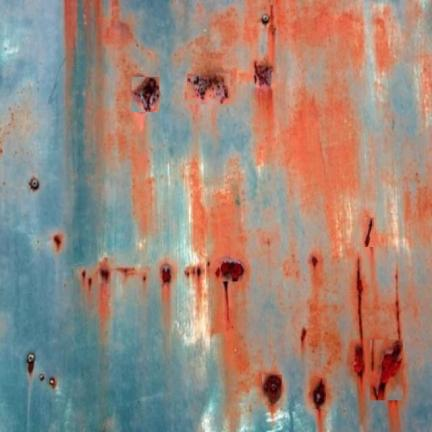karat: (240, 4, 364, 257), (181, 165, 286, 431), (80, 0, 160, 247), (172, 12, 243, 125), (345, 341, 410, 401), (60, 2, 78, 105)
